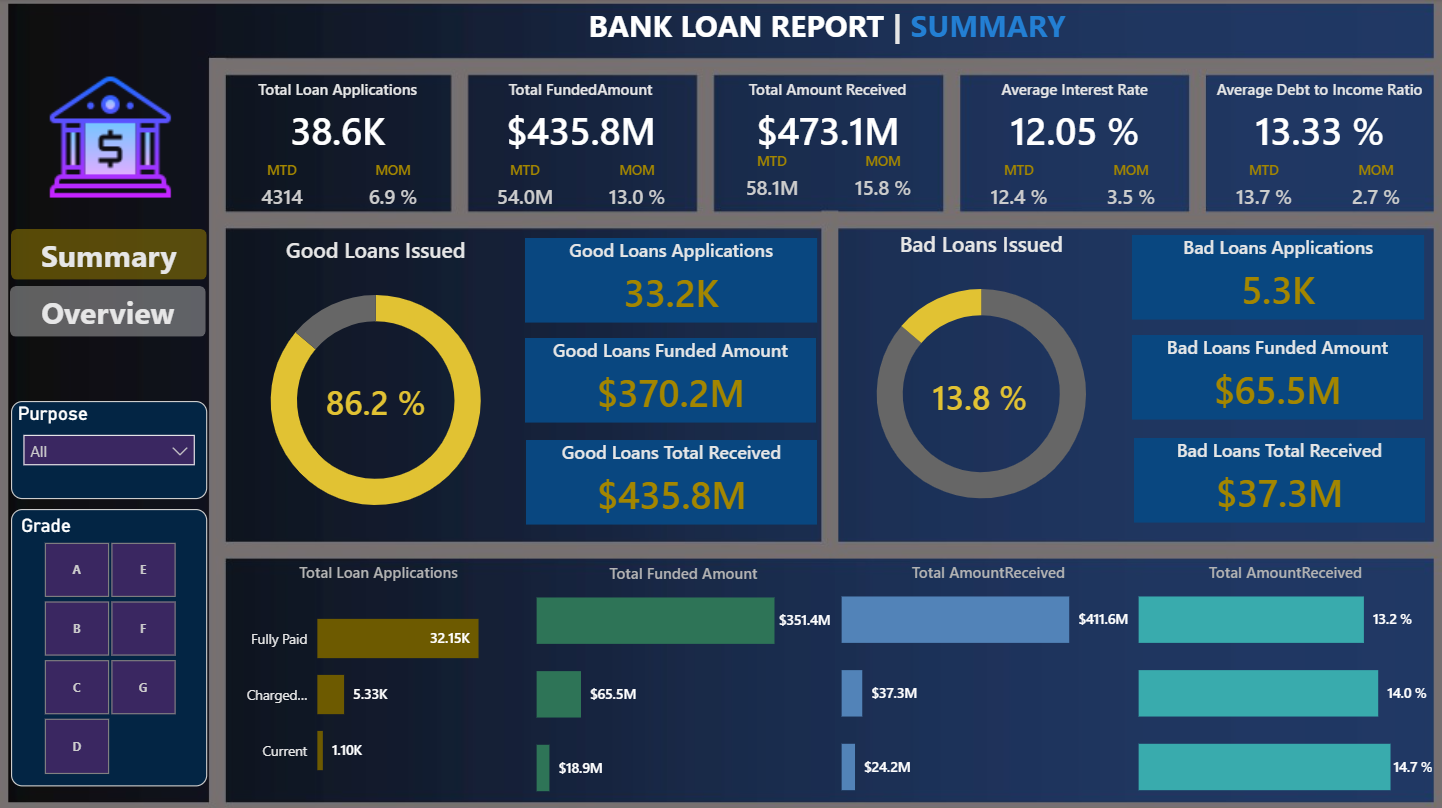

What the dashboard file says about the page in this screenshot:
{"tool":"powerbi","page":{"name":"Summary","canvas":[1280,720],"ordinal":0},"visuals":[{"type":"card","title":"Total Loan Applications","fields":{"Values":["Count(financial_loan.id)"]},"box":[200.2,70.9,198,75.4],"z":0},{"type":"card","title":"Total FundedAmount","fields":{"Values":["Sum(financial_loan.loan_amount)"]},"box":[416.2,70.9,198,75.4],"z":1000},{"type":"card","title":"Total Amount Received","fields":{"Values":["Sum(financial_loan.total_payment)"]},"box":[634.5,70.9,198,75.4],"z":2000},{"type":"card","title":"Average Interest Rate","fields":{"Values":["Avg(financial_loan.int_rate)"]},"box":[853.9,70.9,198,75.4],"z":3000},{"type":"card","title":"Average Debt to Income Ratio","fields":{"Values":["Avg(financial_loan.dti)"]},"box":[1071,70.9,198,75.4],"z":4000},{"type":"card","title":"MTD ","fields":{"Values":["financial_loan.MTD_applications"]},"box":[200.2,138.4,99,56.2],"z":5000},{"type":"card","title":"MOM","fields":{"Values":["financial_loan.MOM_applications"]},"box":[299.2,138.4,99,56.2],"z":6000},{"type":"card","title":"MOM","fields":{"Values":["financial_loan.MOM_funded"]},"box":[515.2,138.4,99,56.2],"z":7000},{"type":"card","title":"MTD ","fields":{"Values":["financial_loan.MTD_funded"]},"box":[416.2,138.4,99,56.2],"z":8000},{"type":"card","title":"MTD ","fields":{"Values":["financial_loan.MTD_received"]},"box":[634.5,130.5,99,56.2],"z":9000},{"type":"card","title":"MTD ","fields":{"Values":["financial_loan.MTD_avrg_int_rate"]},"box":[853.9,138.4,99,56.2],"z":10000},{"type":"card","title":"MTD ","fields":{"Values":["financial_loan.MTD_avrg_dti"]},"box":[1071,138.4,99,56.2],"z":11000},{"type":"card","title":"MOM","fields":{"Values":["financial_loan.MOM_received"]},"box":[733.5,130.5,99,56.2],"z":12000},{"type":"card","title":"MOM","fields":{"Values":["financial_loan.MOM_avrg_int_rate"]},"box":[952.9,138.4,99,56.2],"z":13000},{"type":"card","title":"MOM","fields":{"Values":["financial_loan.MOM_avrg_dti"]},"box":[1170,138.4,99,56.2],"z":14000},{"type":"donutChart","title":"Good Loans Issued","fields":{"Y":["CountNonNull(financial_loan.id)"],"Category":["financial_loan.loan_status (groupes)"]},"box":[200.2,209.2,265.5,267.8],"z":15000},{"type":"card","title":"MTD ","fields":{"Values":["financial_loan.Good_loan_pct"]},"box":[283.5,329.6,99,56.2],"z":16000},{"type":"card","title":"Good Loans Applications","fields":{"Values":["CountNonNull(financial_loan.loan_status)"]},"box":[465.5,211.6,259.2,75.4],"z":17000},{"type":"card","title":"Good Loans Funded Amount","fields":{"Values":["Sum(financial_loan.loan_amount)"]},"box":[465.5,300.2,257.9,75.4],"z":18000},{"type":"card","title":"Good Loans Total Received","fields":{"Values":["Sum(financial_loan.total_payment)"]},"box":[466.8,391.4,257.9,75.4],"z":19000},{"type":"donutChart","title":"Bad Loans Issued","fields":{"Y":["CountNonNull(financial_loan.id)"],"Category":["financial_loan.loan_status (groupes)"]},"box":[738,203.9,264.8,267],"z":20000},{"type":"card","title":"Bad Loans Applications","fields":{"Values":["CountNonNull(financial_loan.loan_status)"]},"box":[1003.9,209.6,259.2,75.5],"z":21000},{"type":"card","title":"Bad Loans Funded Amount","fields":{"Values":["Sum(financial_loan.loan_amount)"]},"box":[1003.9,297.8,257.9,75.4],"z":22000},{"type":"card","title":"Bad Loans Total Received","fields":{"Values":["Sum(financial_loan.total_payment)"]},"box":[1005.2,389,257.9,75.4],"z":23000},{"type":"card","title":"MTD ","fields":{"Values":["financial_loan.Bad_loan_pct"]},"box":[819,325.1,99,56.2],"z":24000},{"type":"clusteredBarChart","title":"Total Loan Applications","fields":{"Category":["financial_loan.loan_status"],"Y":["CountNonNull(financial_loan.id)"]},"box":[200.6,494.6,270.4,216.3],"z":25000},{"type":"clusteredBarChart","title":"Total Funded Amount","fields":{"Category":["financial_loan.loan_status"],"Y":["Sum(financial_loan.loan_amount)"]},"box":[471,495.8,270.4,216.3],"z":26000},{"type":"clusteredBarChart","title":"Total AmountReceived","fields":{"Category":["financial_loan.loan_status"],"Y":["Sum(financial_loan.total_payment)"]},"box":[741.4,494.6,270.4,216.3],"z":27000},{"type":"clusteredBarChart","title":"Total AmountReceived","fields":{"Category":["financial_loan.loan_status"],"Y":["Avg(financial_loan.dti)"]},"box":[1005.1,494.6,270.4,216.3],"z":28000},{"type":"textbox","box":[185.9,0,1094.1,50.7],"z":29000},{"type":"image","box":[9,58.6,176.9,142],"z":30000},{"type":"slicer","title":"Grade","fields":{"Values":["financial_loan.grade"]},"box":[10.1,451.8,173.5,245.6],"z":31000},{"type":"slicer","title":"Purpose","fields":{"Values":["financial_loan.purpose"]},"box":[10.1,356.1,173.5,86.8],"z":32000},{"type":"actionButton","title":"Summary","box":[10.1,203.9,173.5,45.1],"z":33000},{"type":"actionButton","title":"Summary","box":[9,254.6,173.5,45.1],"z":34000}]}

Visuals, with their boxes in screenshot pixels (x1, y1, x2, y2), scaled from the page's 1280x720 canvas onto the 1442x808 screenshot:
"Total Loan Applications" card: (x1=226, y1=80, x2=449, y2=164)
"Total FundedAmount" card: (x1=469, y1=80, x2=692, y2=164)
"Total Amount Received" card: (x1=715, y1=80, x2=938, y2=164)
"Average Interest Rate" card: (x1=962, y1=80, x2=1185, y2=164)
"Average Debt to Income Ratio" card: (x1=1207, y1=80, x2=1430, y2=164)
"MTD " card: (x1=226, y1=155, x2=337, y2=218)
"MOM" card: (x1=337, y1=155, x2=449, y2=218)
"MOM" card: (x1=580, y1=155, x2=692, y2=218)
"MTD " card: (x1=469, y1=155, x2=580, y2=218)
"MTD " card: (x1=715, y1=146, x2=826, y2=210)
"MTD " card: (x1=962, y1=155, x2=1074, y2=218)
"MTD " card: (x1=1207, y1=155, x2=1318, y2=218)
"MOM" card: (x1=826, y1=146, x2=938, y2=210)
"MOM" card: (x1=1074, y1=155, x2=1185, y2=218)
"MOM" card: (x1=1318, y1=155, x2=1430, y2=218)
"Good Loans Issued" donutChart: (x1=226, y1=235, x2=525, y2=535)
"MTD " card: (x1=319, y1=370, x2=431, y2=433)
"Good Loans Applications" card: (x1=524, y1=237, x2=816, y2=322)
"Good Loans Funded Amount" card: (x1=524, y1=337, x2=815, y2=422)
"Good Loans Total Received" card: (x1=526, y1=439, x2=816, y2=524)
"Bad Loans Issued" donutChart: (x1=831, y1=229, x2=1130, y2=528)
"Bad Loans Applications" card: (x1=1131, y1=235, x2=1423, y2=320)
"Bad Loans Funded Amount" card: (x1=1131, y1=334, x2=1421, y2=419)
"Bad Loans Total Received" card: (x1=1132, y1=437, x2=1423, y2=521)
"MTD " card: (x1=923, y1=365, x2=1034, y2=428)
"Total Loan Applications" clusteredBarChart: (x1=226, y1=555, x2=531, y2=798)
"Total Funded Amount" clusteredBarChart: (x1=531, y1=556, x2=835, y2=799)
"Total AmountReceived" clusteredBarChart: (x1=835, y1=555, x2=1140, y2=798)
"Total AmountReceived" clusteredBarChart: (x1=1132, y1=555, x2=1437, y2=798)
textbox: (x1=209, y1=0, x2=1441, y2=57)
image: (x1=10, y1=66, x2=209, y2=225)
"Grade" slicer: (x1=11, y1=507, x2=207, y2=783)
"Purpose" slicer: (x1=11, y1=400, x2=207, y2=497)
"Summary" actionButton: (x1=11, y1=229, x2=207, y2=279)
"Summary" actionButton: (x1=10, y1=286, x2=206, y2=336)
